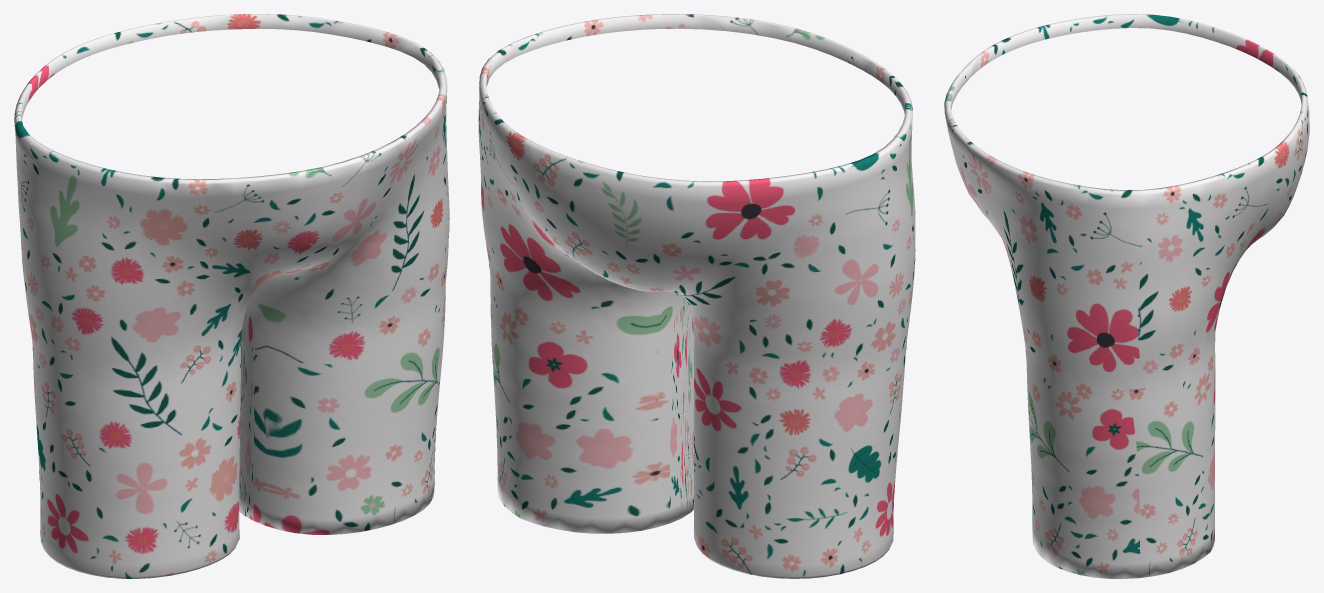
File: HANI_HB.gltf
The picture shows the model from 3 angles, left to right: view 1: azimuth 30°, elevation 25°; view 2: azimuth 150°, elevation 25°; view 3: azimuth 270°, elevation 25°; orthographic projection. The views are drawn at different scales.
Parts seen in each view (by area): view 1: HANI_HB; view 2: HANI_HB; view 3: HANI_HB.
Part boxes in pixels (x1=…): HANI_HB: x1=14, y1=14, x2=449, y2=578; HANI_HB: x1=478, y1=14, x2=915, y2=578; HANI_HB: x1=944, y1=14, x2=1309, y2=578.
Size of the model in its own units: 222 by 220 by 187.
1 material, 1 textured.
